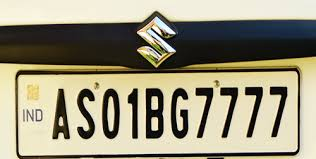numberplate: (14, 70, 301, 156)
